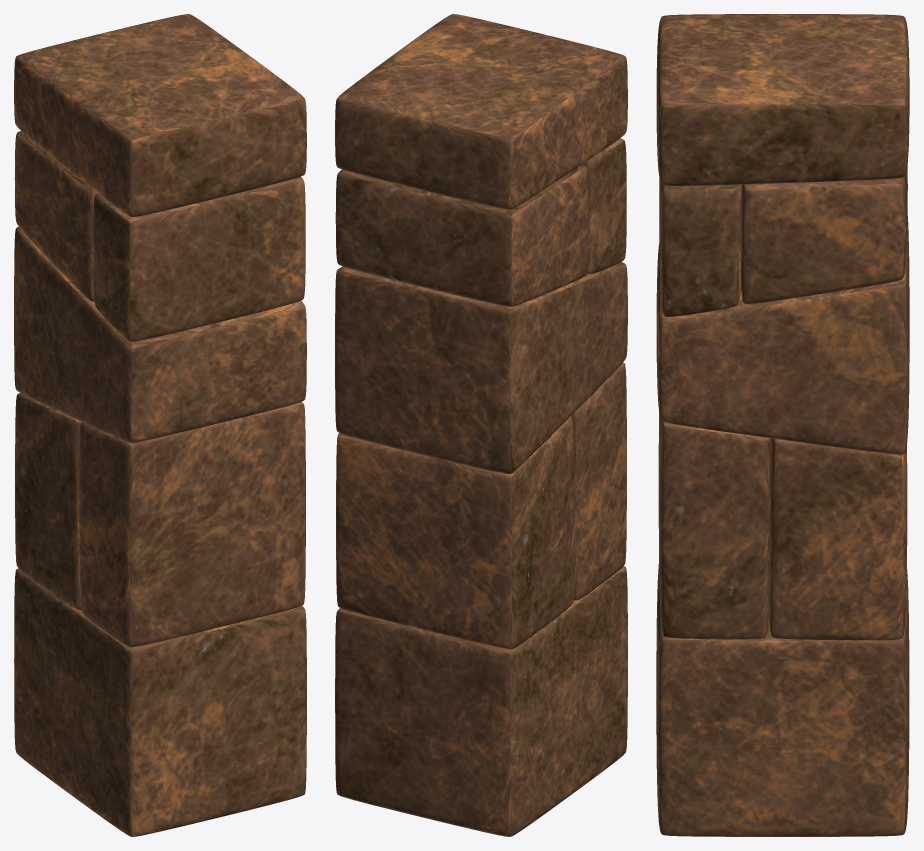
File: FirePlace3.fbx
3 renders of one model, left to right at view 1: azimuth 30°, elevation 25°; view 2: azimuth 150°, elevation 25°; view 3: azimuth 270°, elevation 25°, orthographic. The views are drawn at different scales.
Visible parts, largest first — view 1: PipeFireplace; view 2: PipeFireplace; view 3: PipeFireplace.
Boxes of the visible parts, bbox=[...] form: PipeFireplace: bbox=[14, 14, 306, 836]; PipeFireplace: bbox=[335, 14, 627, 836]; PipeFireplace: bbox=[656, 14, 909, 836].
Size of the model in its own units: 0.376 by 1.39 by 0.4308.
1 material, 1 textured.
